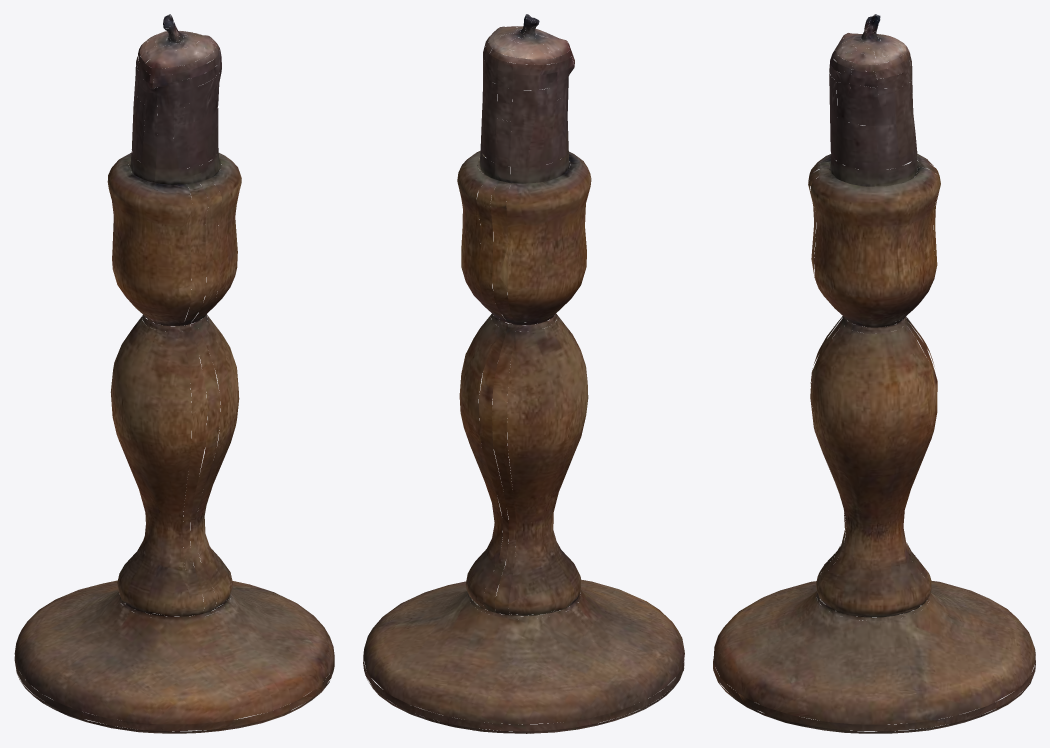
The model's file is wooden_candlestick.glb.
The picture shows the model from 3 angles, left to right: view 1: azimuth 30°, elevation 25°; view 2: azimuth 150°, elevation 25°; view 3: azimuth 270°, elevation 25°; orthographic projection.
Parts seen in each view (by area): view 1: wooden_candlestick; view 2: wooden_candlestick; view 3: wooden_candlestick.
Part boxes in pixels (box(x1,y1,x2,y2)): wooden_candlestick: box(14, 14, 334, 733); wooden_candlestick: box(363, 14, 684, 733); wooden_candlestick: box(713, 14, 1035, 733).
Size of the model in its own units: 0.0972 by 0.2197 by 0.0986.
1 material, 1 textured.
